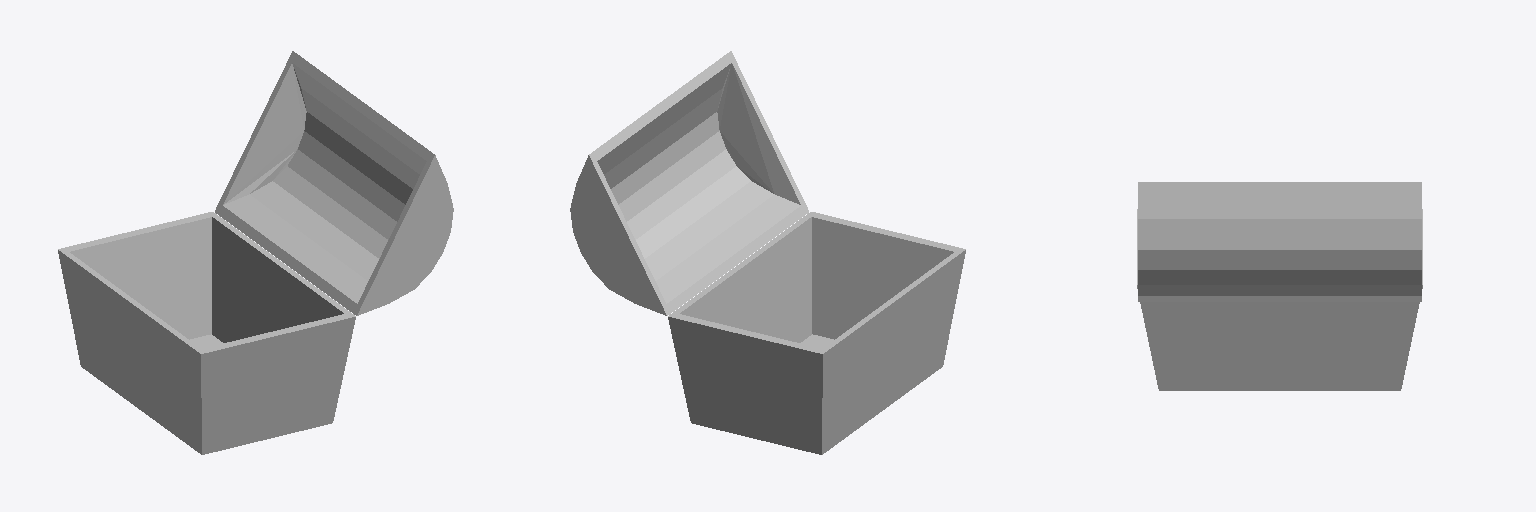
The model's file is chestlx.obj.
3 renders of one model, left to right at view 1: azimuth 30°, elevation 25°; view 2: azimuth 150°, elevation 25°; view 3: azimuth 270°, elevation 25°, orthographic.
Visible parts, largest first — view 1: Cube_001_Cube_001, Plane_002; view 2: Cube_001_Cube_001, Plane_002; view 3: Plane_002, Cube_001_Cube_001.
Boxes of the visible parts, <box> form: Cube_001_Cube_001: <box>58,212,355,454</box>; Plane_002: <box>215,51,453,315</box>; Cube_001_Cube_001: <box>668,212,965,454</box>; Plane_002: <box>570,51,808,315</box>; Plane_002: <box>1138,182,1421,301</box>; Cube_001_Cube_001: <box>1137,209,1422,390</box>.
Size of the model in its own units: 3.81 by 3.65 by 3.74.